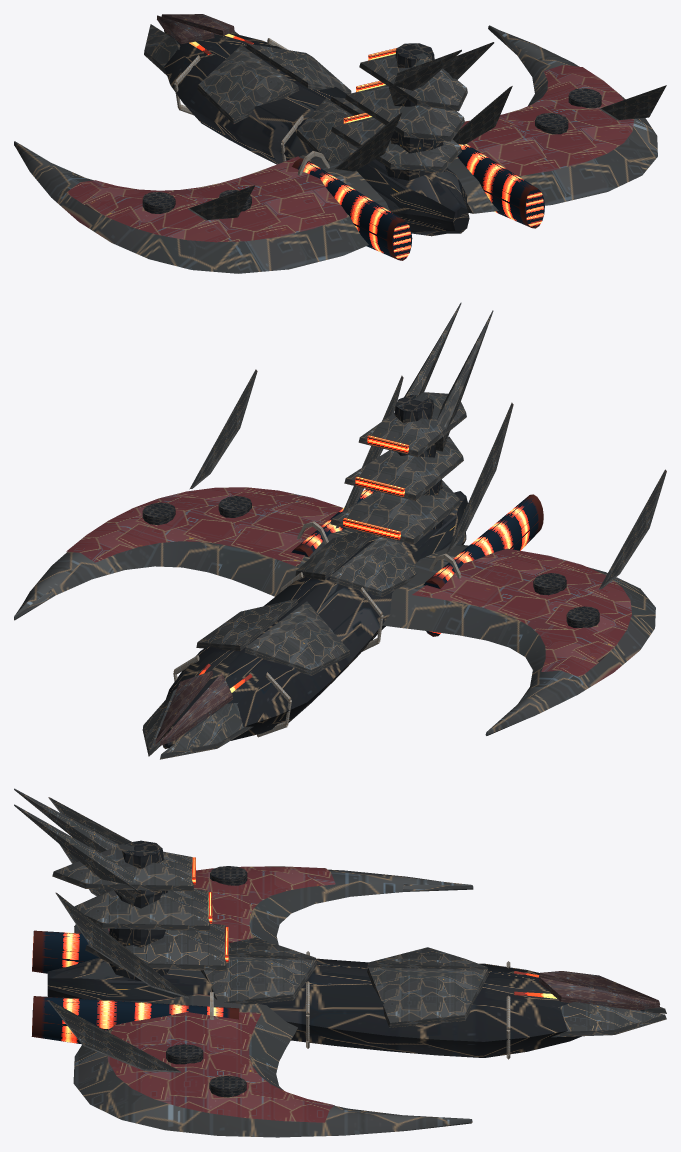
Rendered from dynasty_cruiser_far.glb.
3 views of the same model, one above another, from view 1: azimuth 30°, elevation 25°; view 2: azimuth 150°, elevation 25°; view 3: azimuth 270°, elevation 25° (orthographic).
Parts seen in each view (by area): view 1: dynasty_cruiser_far_source; view 2: dynasty_cruiser_far_source; view 3: dynasty_cruiser_far_source.
Boxes of the visible parts, x1=… form: dynasty_cruiser_far_source: x1=14, y1=14, x2=666, y2=273; dynasty_cruiser_far_source: x1=14, y1=302, x2=666, y2=759; dynasty_cruiser_far_source: x1=14, y1=788, x2=666, y2=1137.
Bounding box in the file's own units: 2.73 × 1.2 × 2.85.
1 material, 1 textured.
